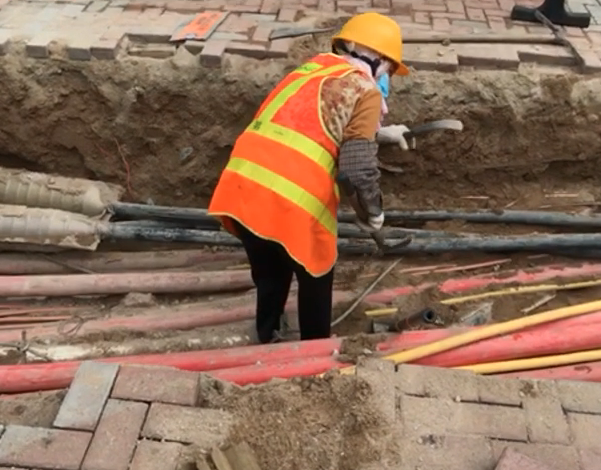Hard Hat: (331, 14, 405, 77)
Person: (208, 14, 404, 340)
Vest: (208, 51, 360, 278)
